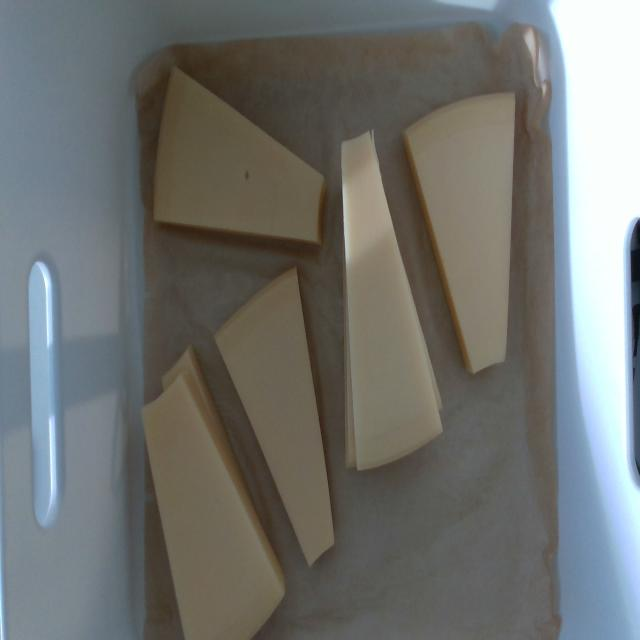Cheese: (144, 377, 284, 637), (216, 269, 334, 564), (342, 132, 443, 468), (404, 94, 514, 372), (154, 69, 324, 242)
